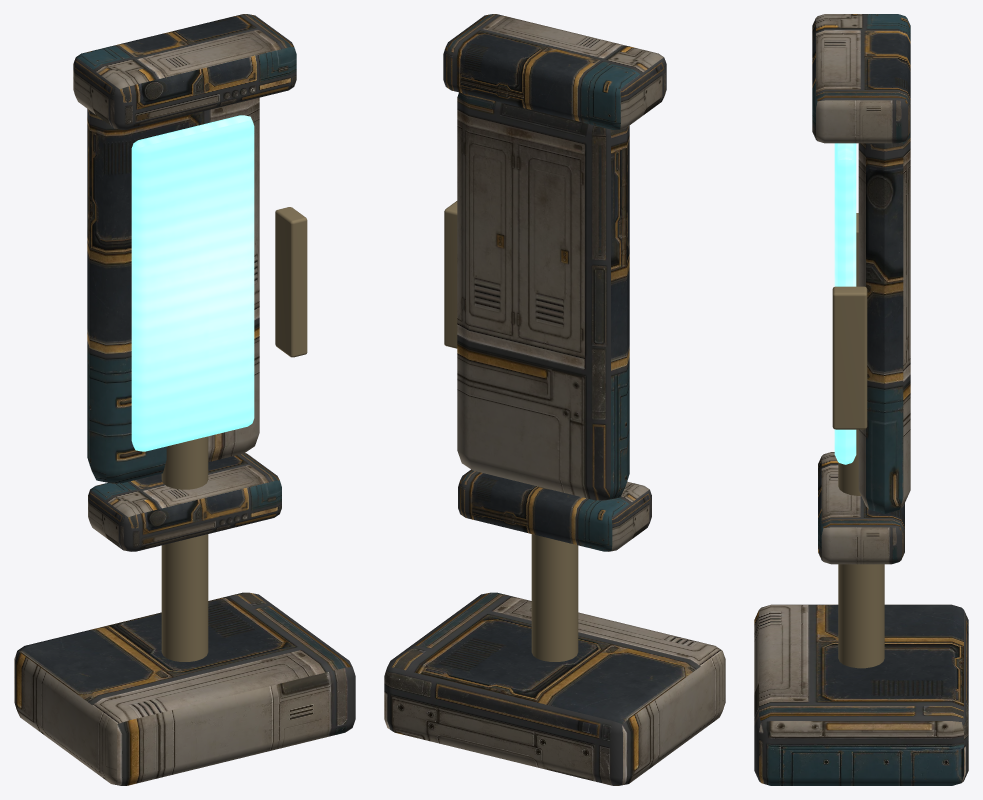
Rendered from hp_light_residential_lamp_blue.glb.
3 views of the same model, side by side, from view 1: azimuth 30°, elevation 25°; view 2: azimuth 150°, elevation 25°; view 3: azimuth 270°, elevation 25° (orthographic).
Visible parts, largest first — view 1: bottom_cap_dark, front_glowing_lens, lamp_back_housing, small_side_handle; view 2: bottom_cap_dark, lamp_back_housing, small_side_handle; view 3: bottom_cap_dark, lamp_back_housing, small_side_handle, front_glowing_lens.
Boxes of the visible parts, box(x1,y1,x2,y2) form: bottom_cap_dark: box(14, 14, 355, 785); front_glowing_lens: box(131, 115, 254, 451); lamp_back_housing: box(87, 97, 259, 483); small_side_handle: box(161, 207, 307, 661); bottom_cap_dark: box(384, 14, 725, 785); lamp_back_housing: box(457, 92, 629, 500); small_side_handle: box(444, 201, 578, 661); bottom_cap_dark: box(754, 14, 968, 785); lamp_back_housing: box(858, 132, 910, 513); small_side_handle: box(832, 213, 884, 668); front_glowing_lens: box(834, 143, 856, 464).
Bounding box in the file's own units: 0.5608 × 1.47 × 0.4225.
Materials: 4 (3 with a texture image).
